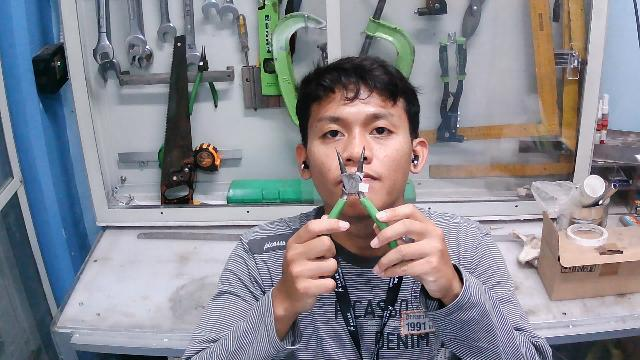tang_cucut_lancip_1: (302, 139, 412, 268)
